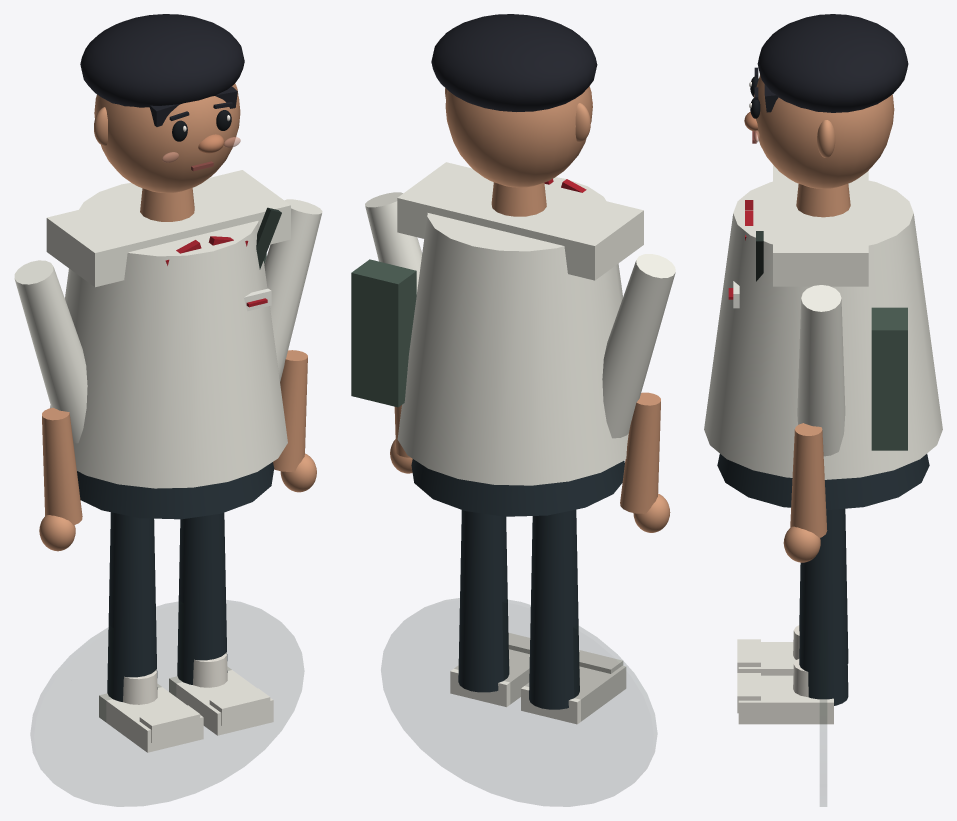
The model's file is player_male_white.glb.
3 renders of one model, left to right at view 1: azimuth 30°, elevation 25°; view 2: azimuth 150°, elevation 25°; view 3: azimuth 270°, elevation 25°, orthographic. The views are drawn at different scales.
Parts seen in each view (by area): view 1: torso, contact_shadow, hair_cap, shoulder_line, head, leg_-0.075, leg_0.075, upper_arm_-0.235, hip, upper_arm_0.235, forearm_-0.235, shoe_-0.075 (+10 smaller); view 2: torso, contact_shadow, hair_cap, shoulder_line, leg_-0.075, head, leg_0.075, shoulder_bag, upper_arm_-0.235, hip, forearm_-0.235, upper_arm_0.235 (+5 smaller); view 3: torso, hair_cap, head, shoulder_line, leg_0.075, upper_arm_0.235, shoulder_bag, hip, forearm_0.235, shoe_0.075, neck, shoe_-0.075 (+6 smaller).
Part boxes in pixels (x1,y1,x2,y2): torso: (50,183,287,488); contact_shadow: (31,600,303,806); hair_cap: (80,14,244,107); shoulder_line: (46,170,290,287); head: (94,84,240,193); leg_-0.075: (107,512,157,701); leg_0.075: (177,513,227,684); upper_arm_-0.235: (14,260,87,443); hip: (77,462,274,519); upper_arm_0.235: (264,199,322,381); forearm_-0.235: (42,407,82,525); shoe_-0.075: (99,683,203,752); torso: (397,177,628,485); contact_shadow: (381,598,656,806); hair_cap: (431,14,597,111); shoulder_line: (397,162,643,280); leg_-0.075: (529,509,579,709); head: (445,86,592,187); leg_0.075: (458,510,509,692); shoulder_bag: (351,259,416,407); upper_arm_-0.235: (602,254,675,438); hip: (411,459,624,516); forearm_-0.235: (620,392,660,513); upper_arm_0.235: (365,192,422,293); torso: (704,180,942,479); hair_cap: (757,14,908,112); head: (753,75,894,188); shoulder_line: (773,165,868,286); leg_0.075: (799,508,848,705); upper_arm_0.235: (797,285,845,456); shoulder_bag: (871,307,907,450); hip: (717,454,929,510); forearm_0.235: (790,423,827,537); shoe_0.075: (738,675,833,724); neck: (796,184,850,217); shoe_-0.075: (738,642,796,675).
Bounding box in the file's own units: 0.675 × 1.64 × 0.468.
